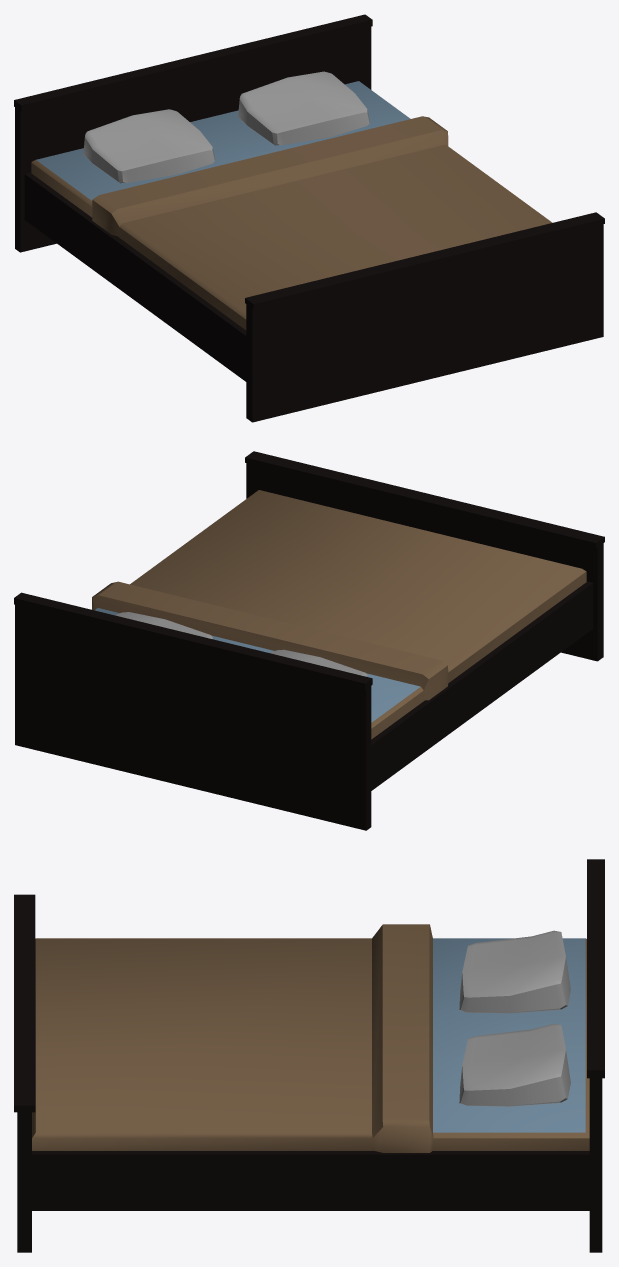
File: Bed_type2.FBX
3 views of the same model, one above another, from view 1: azimuth 30°, elevation 25°; view 2: azimuth 150°, elevation 25°; view 3: azimuth 270°, elevation 25° (orthographic). The views are drawn at different scales.
Visible parts, largest first — view 1: Bed_type2_01; view 2: Bed_type2_01; view 3: Bed_type2_01.
Boxes of the visible parts, bbox=[...] form: Bed_type2_01: bbox=[14, 14, 604, 422]; Bed_type2_01: bbox=[14, 451, 604, 830]; Bed_type2_01: bbox=[14, 859, 604, 1252].
Size of the model in its own units: 432 by 174 by 511.
